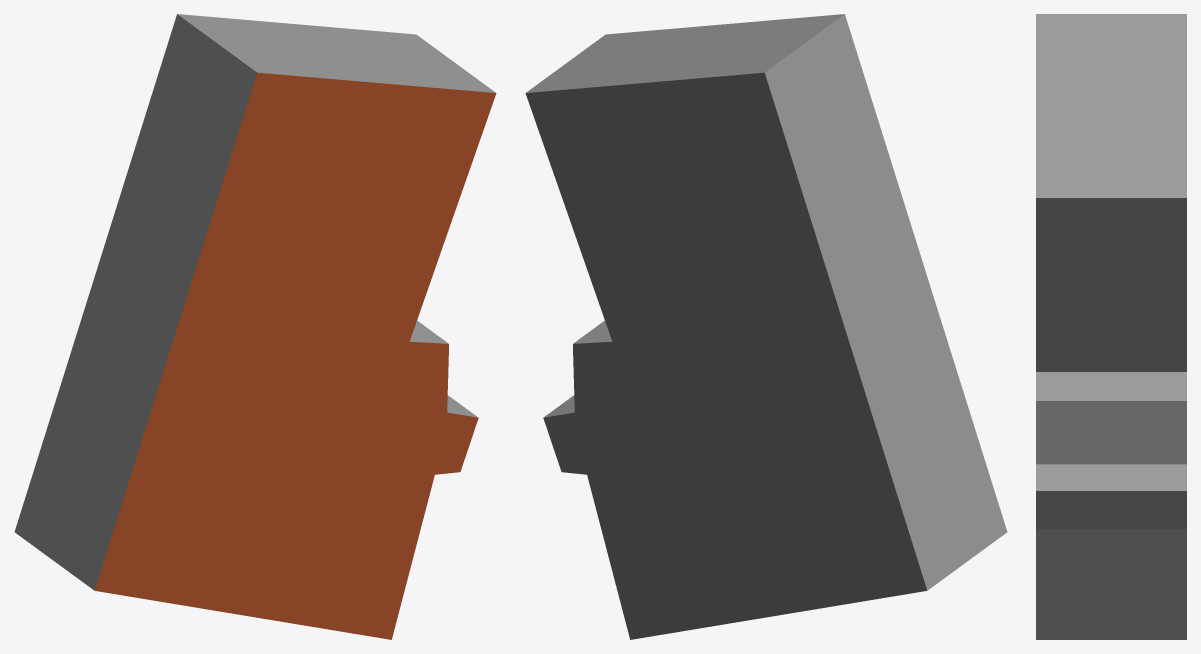
The model's file is construction_3433_assumed_A_Casa_h6m.obj.
3 renders of one model, left to right at view 1: azimuth 30°, elevation 25°; view 2: azimuth 150°, elevation 25°; view 3: azimuth 270°, elevation 25°, orthographic. The views are drawn at different scales.
Visible parts, largest first — view 1: construction_3433_assumed_A_Casa; view 2: construction_3433_assumed_A_Casa; view 3: construction_3433_assumed_A_Casa.
Boxes of the visible parts, x1=… form: construction_3433_assumed_A_Casa: x1=14, y1=14, x2=496, y2=639; construction_3433_assumed_A_Casa: x1=525, y1=14, x2=1007, y2=639; construction_3433_assumed_A_Casa: x1=1036, y1=14, x2=1186, y2=639.
Size of the model in its own units: 17.37 by 24.78 by 6.
